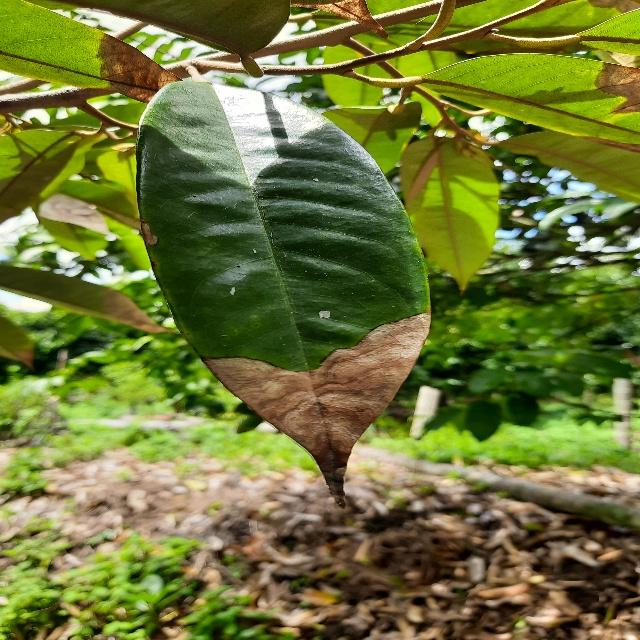Leaf Blight: (125, 69, 439, 495)
